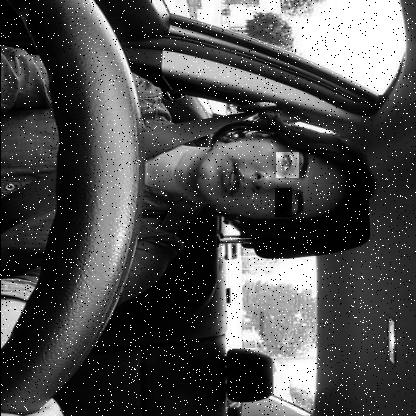seatbelt: (0, 107, 384, 248)
